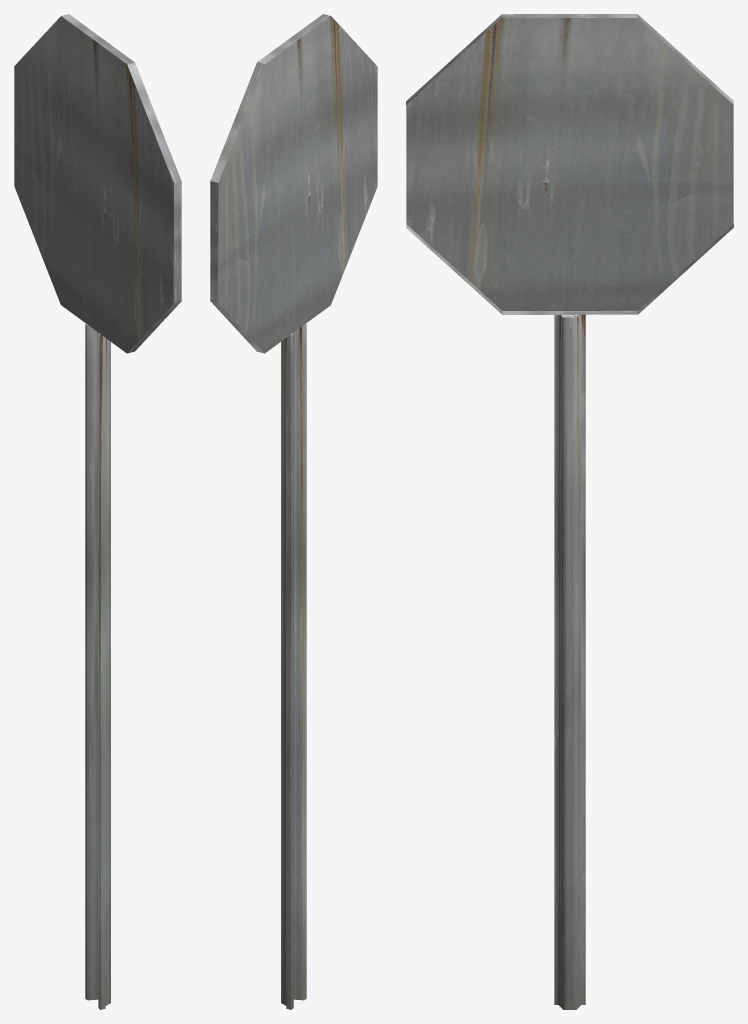
The model's file is stop_sign.fbx.
The picture shows the model from 3 angles, left to right: view 1: azimuth 30°, elevation 25°; view 2: azimuth 150°, elevation 25°; view 3: azimuth 270°, elevation 25°; orthographic projection. The views are drawn at different scales.
Parts seen in each view (by area): view 1: polySurface3; view 2: polySurface3; view 3: polySurface3.
Part boxes in pixels (x1,y1,x2,y2): polySurface3: (14, 14, 181, 1009); polySurface3: (210, 14, 377, 1009); polySurface3: (406, 14, 733, 1009).
Bounding box in the file's own units: 0.1322 × 8.28 × 2.49.
Materials: 1 (1 with a texture image).
